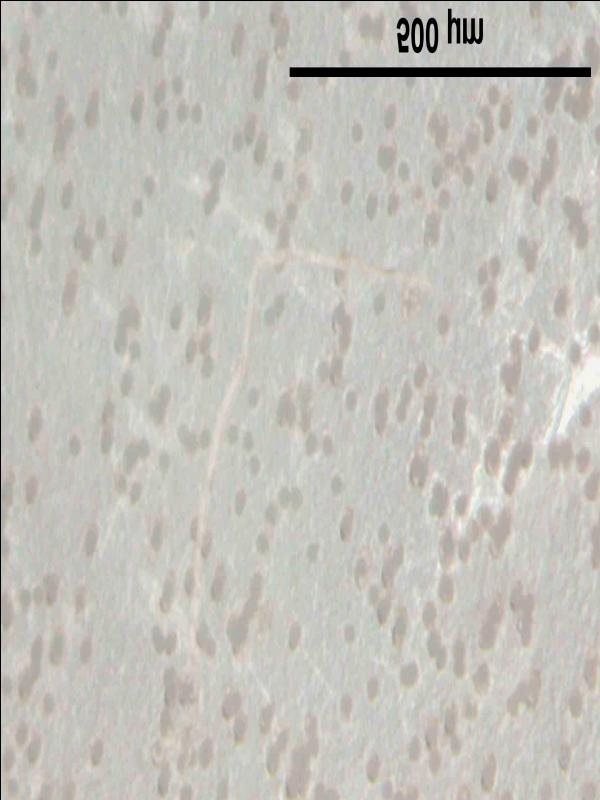microplastic: (1, 4, 598, 799)
